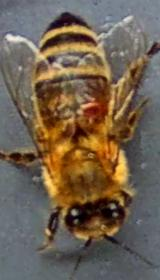varroa_mite: (66, 88, 120, 140)
